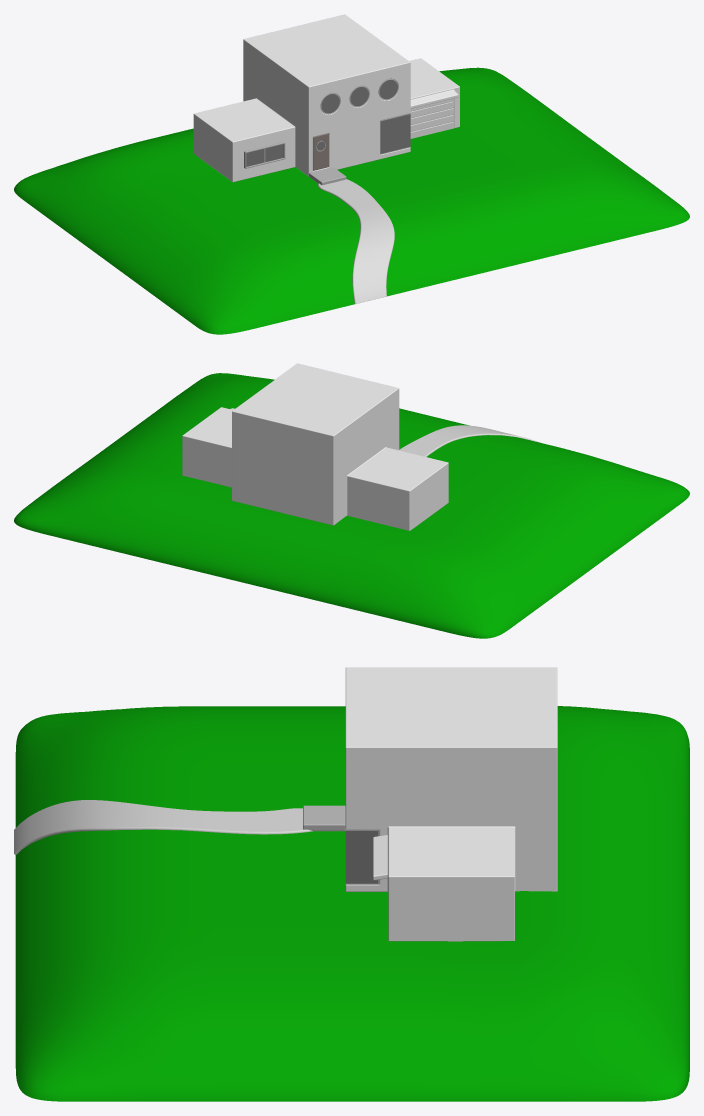
3 views of the same model, one above another, from view 1: azimuth 30°, elevation 25°; view 2: azimuth 150°, elevation 25°; view 3: azimuth 270°, elevation 25° (orthographic). The views are drawn at different scales.
Parts seen in each view (by area): view 1: 027_House_PPG; view 2: 027_House_PPG; view 3: 027_House_PPG.
Part boxes in pixels (x1,y1,x2,y2): 027_House_PPG: (14,14,689,334); 027_House_PPG: (14,363,689,638); 027_House_PPG: (14,667,689,1101).
Bounding box in the file's own units: 0.8548 × 0.2161 × 0.6373.
